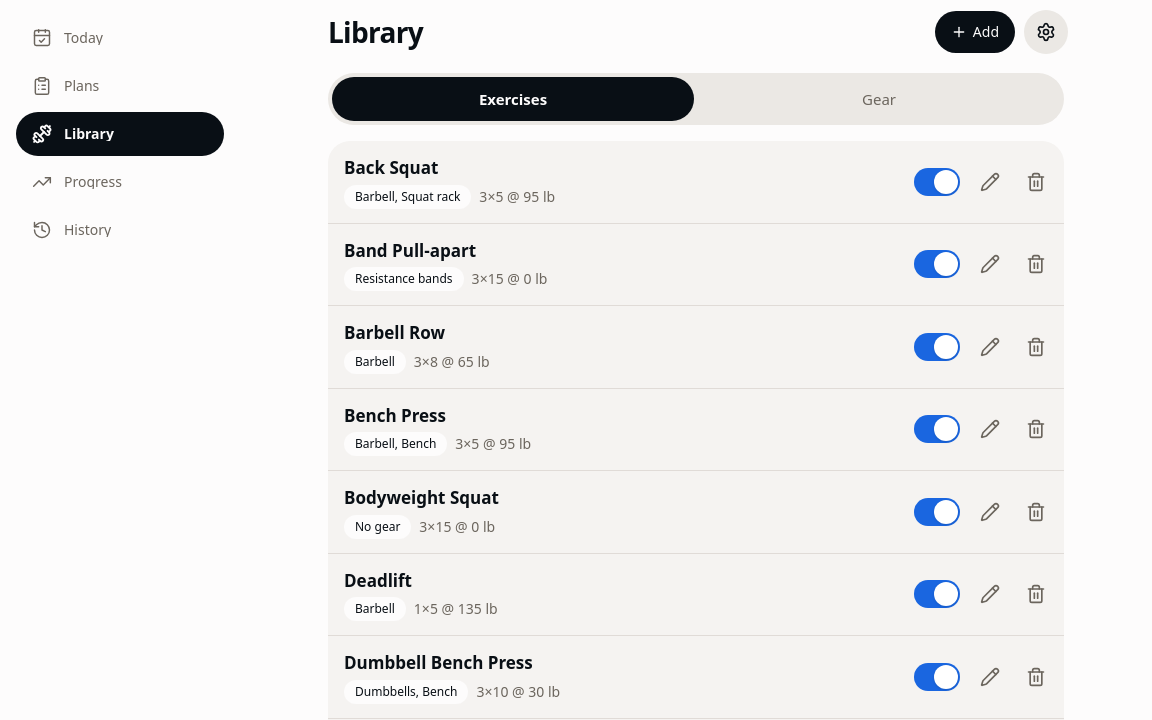
the add exercise sheet is a labelled dialog
Click the button with aria-label "Add exercise" at [975, 32], box [934,10,1016,54]
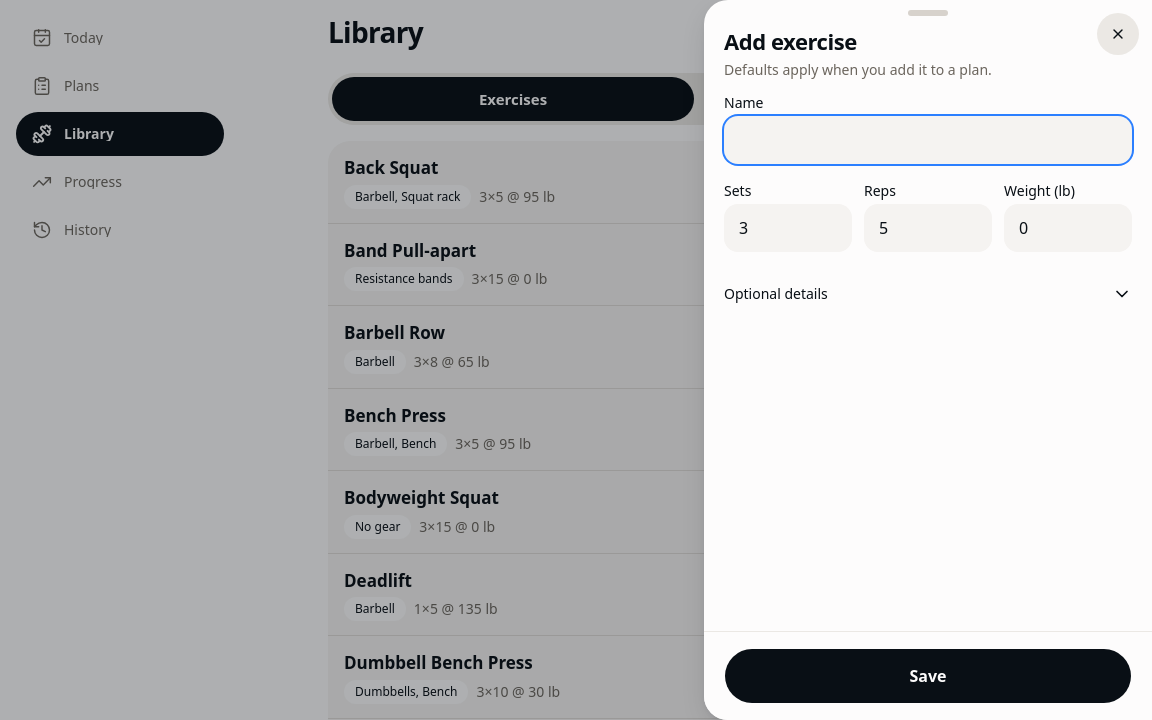
Result: the button named "Close" is shown at [1096,12,1140,56]
